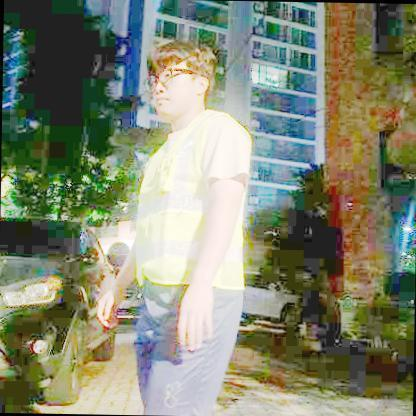no-helmet: (142, 33, 216, 94)
vest: (131, 108, 250, 292)
